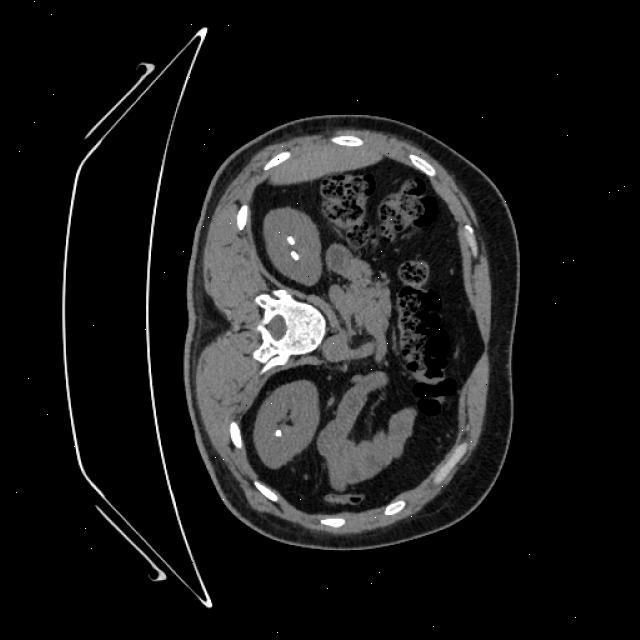kidneystone: (289, 250, 299, 261), (287, 235, 295, 245), (274, 429, 281, 436)
